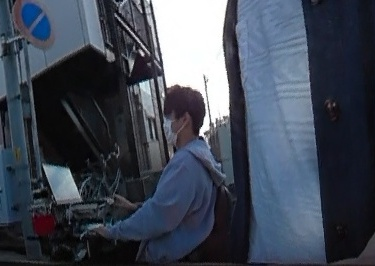person: (117, 83, 218, 266)
